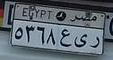3: (24, 24, 35, 45)
5: (13, 26, 24, 42)
6: (36, 24, 45, 45)
8: (46, 27, 55, 48)
ain: (58, 27, 72, 49)
raa: (89, 35, 101, 51)
yaa: (72, 33, 88, 49)
